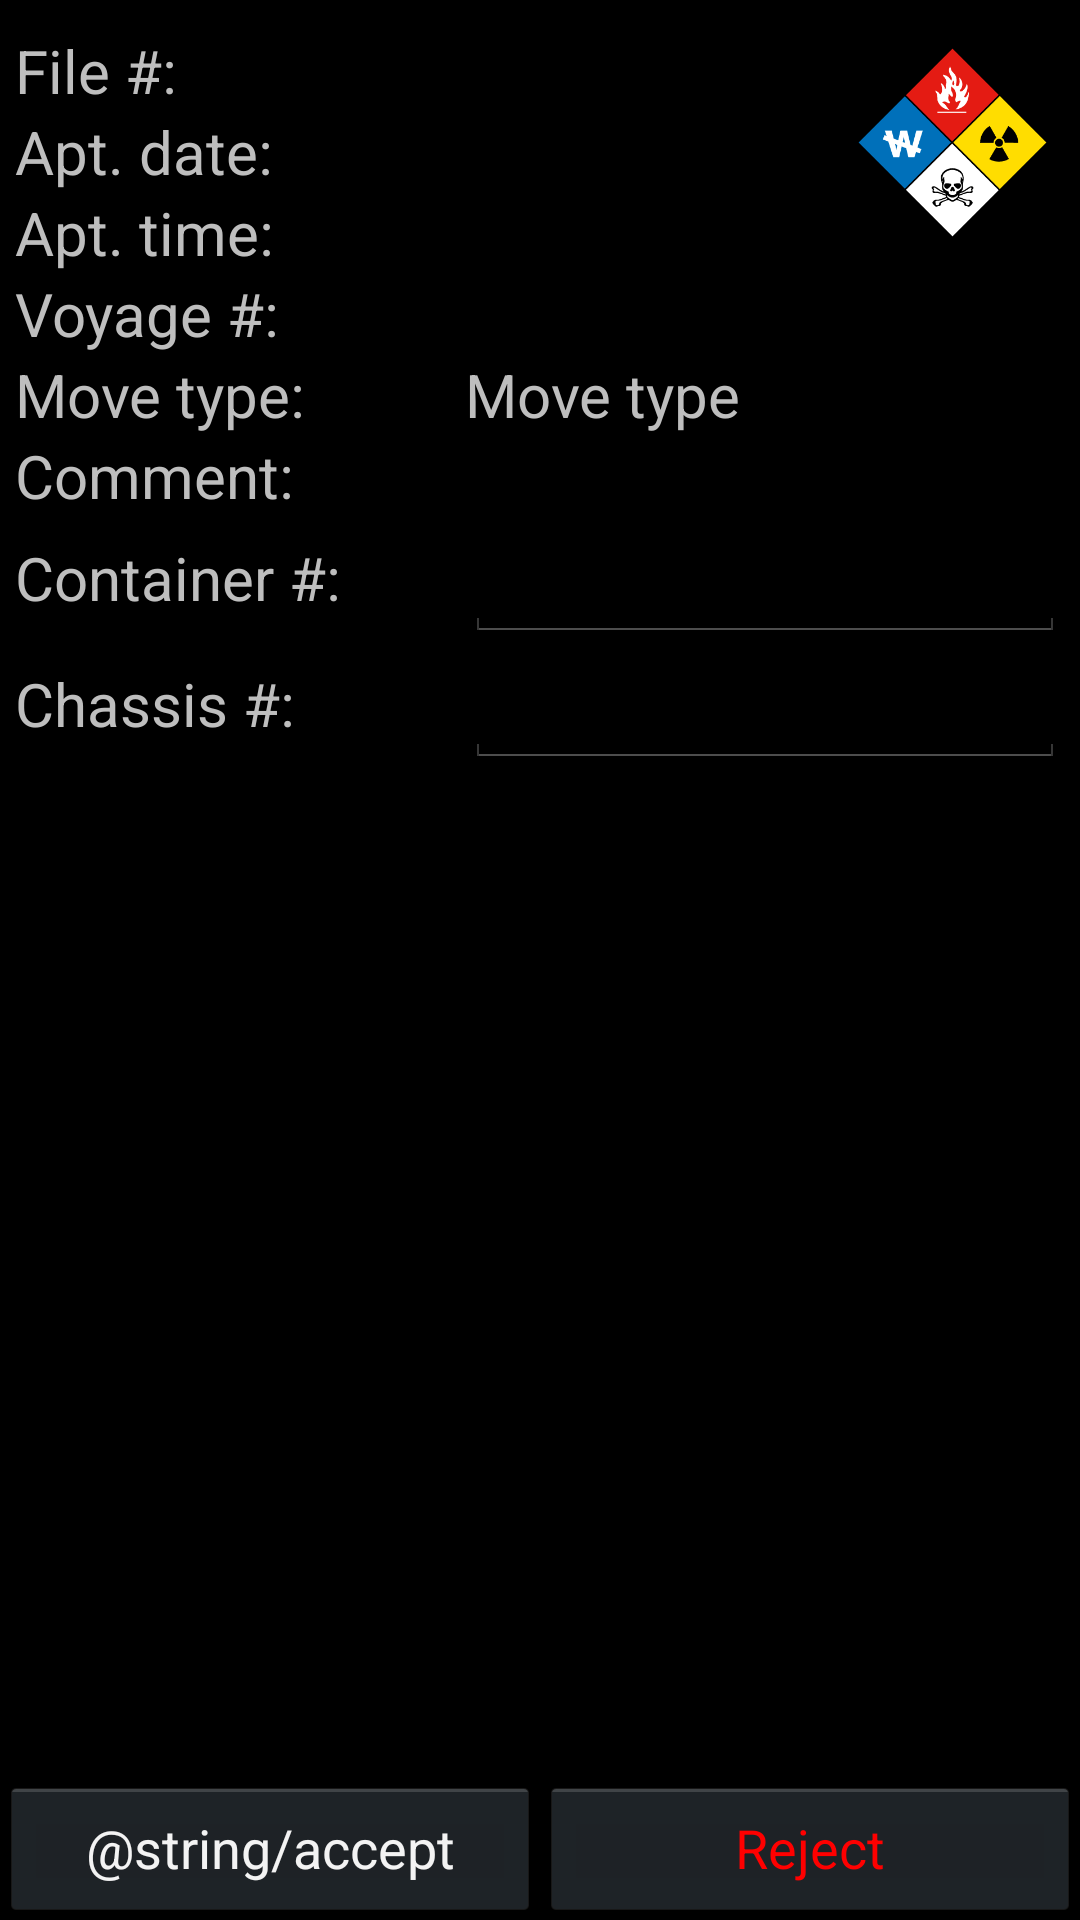

Screen size 1080×1920. Icon name, then its box in pixels as (x1, y1, x2, y2):
hazmat: (858, 48, 1047, 237)
